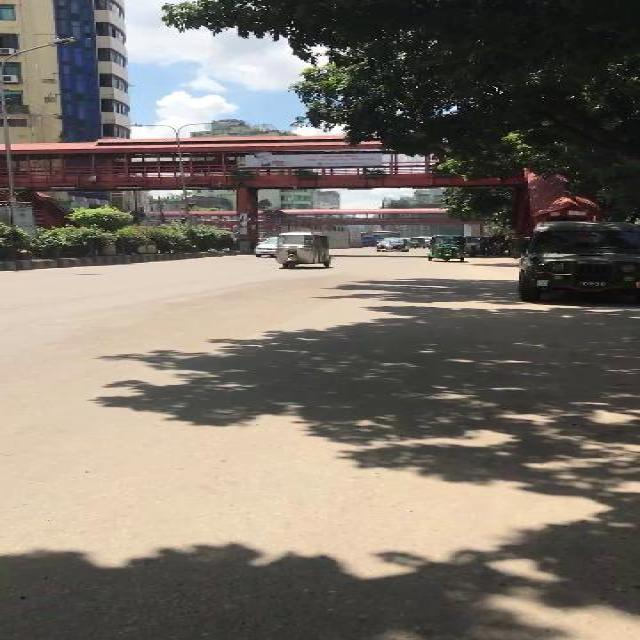vehicle: (518, 221, 637, 304), (273, 230, 333, 269), (428, 235, 467, 264), (254, 236, 279, 259), (375, 238, 409, 252), (465, 236, 486, 257), (408, 237, 426, 249)
